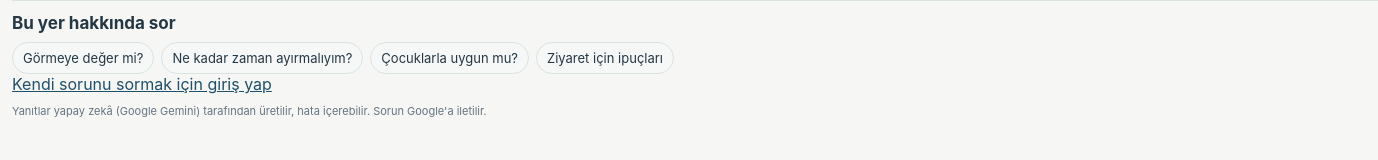
it: yer soru bolumu › 429 yanitinda sinir mesajini gosterir
Click the button "Görmeye değer mi?" at (83, 58), box [12,42,154,74]
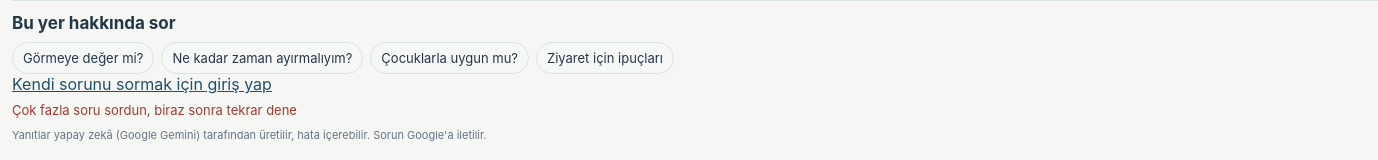
Expected: the message shows "fazla soru", [12,102,297,118]
